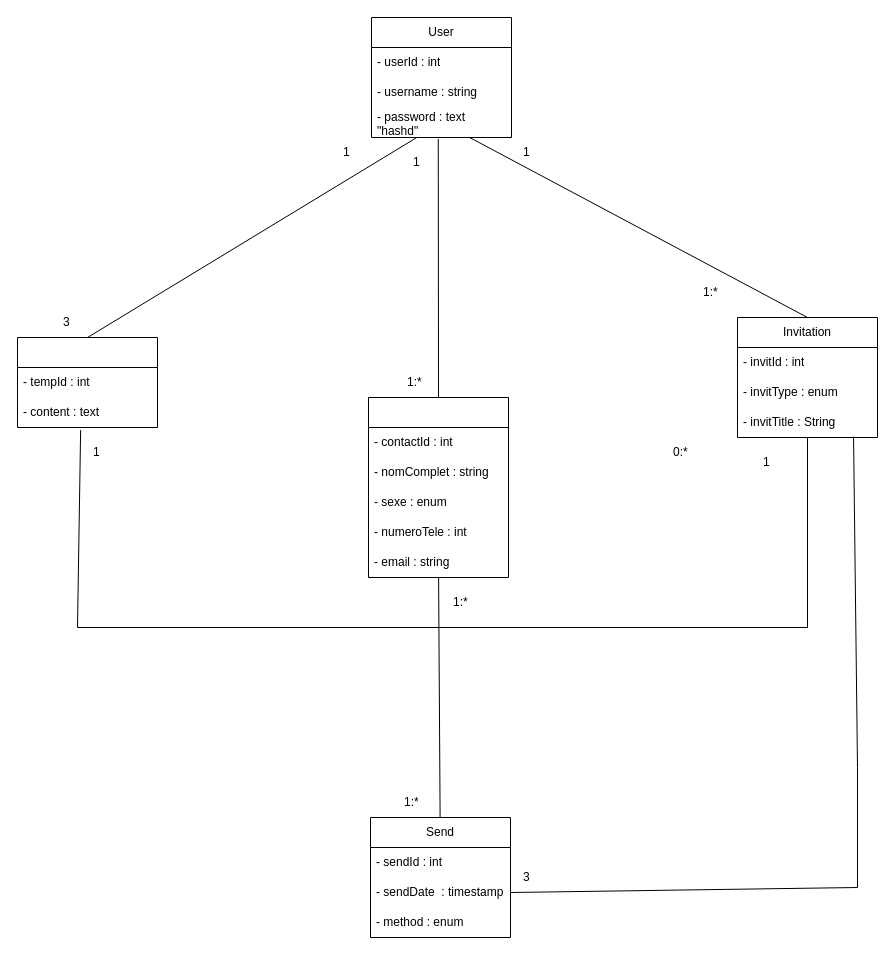
Some shapes in this 895 by 955 pixel diagram are drawn without their labels. The shapes that lost their labels are listed below. From the top down, each one's box as (x1, y1, x2, y2) in pixels, then its label:
(16, 336, 158, 428): InvitationsTemplates
(368, 396, 508, 578): Contacts
